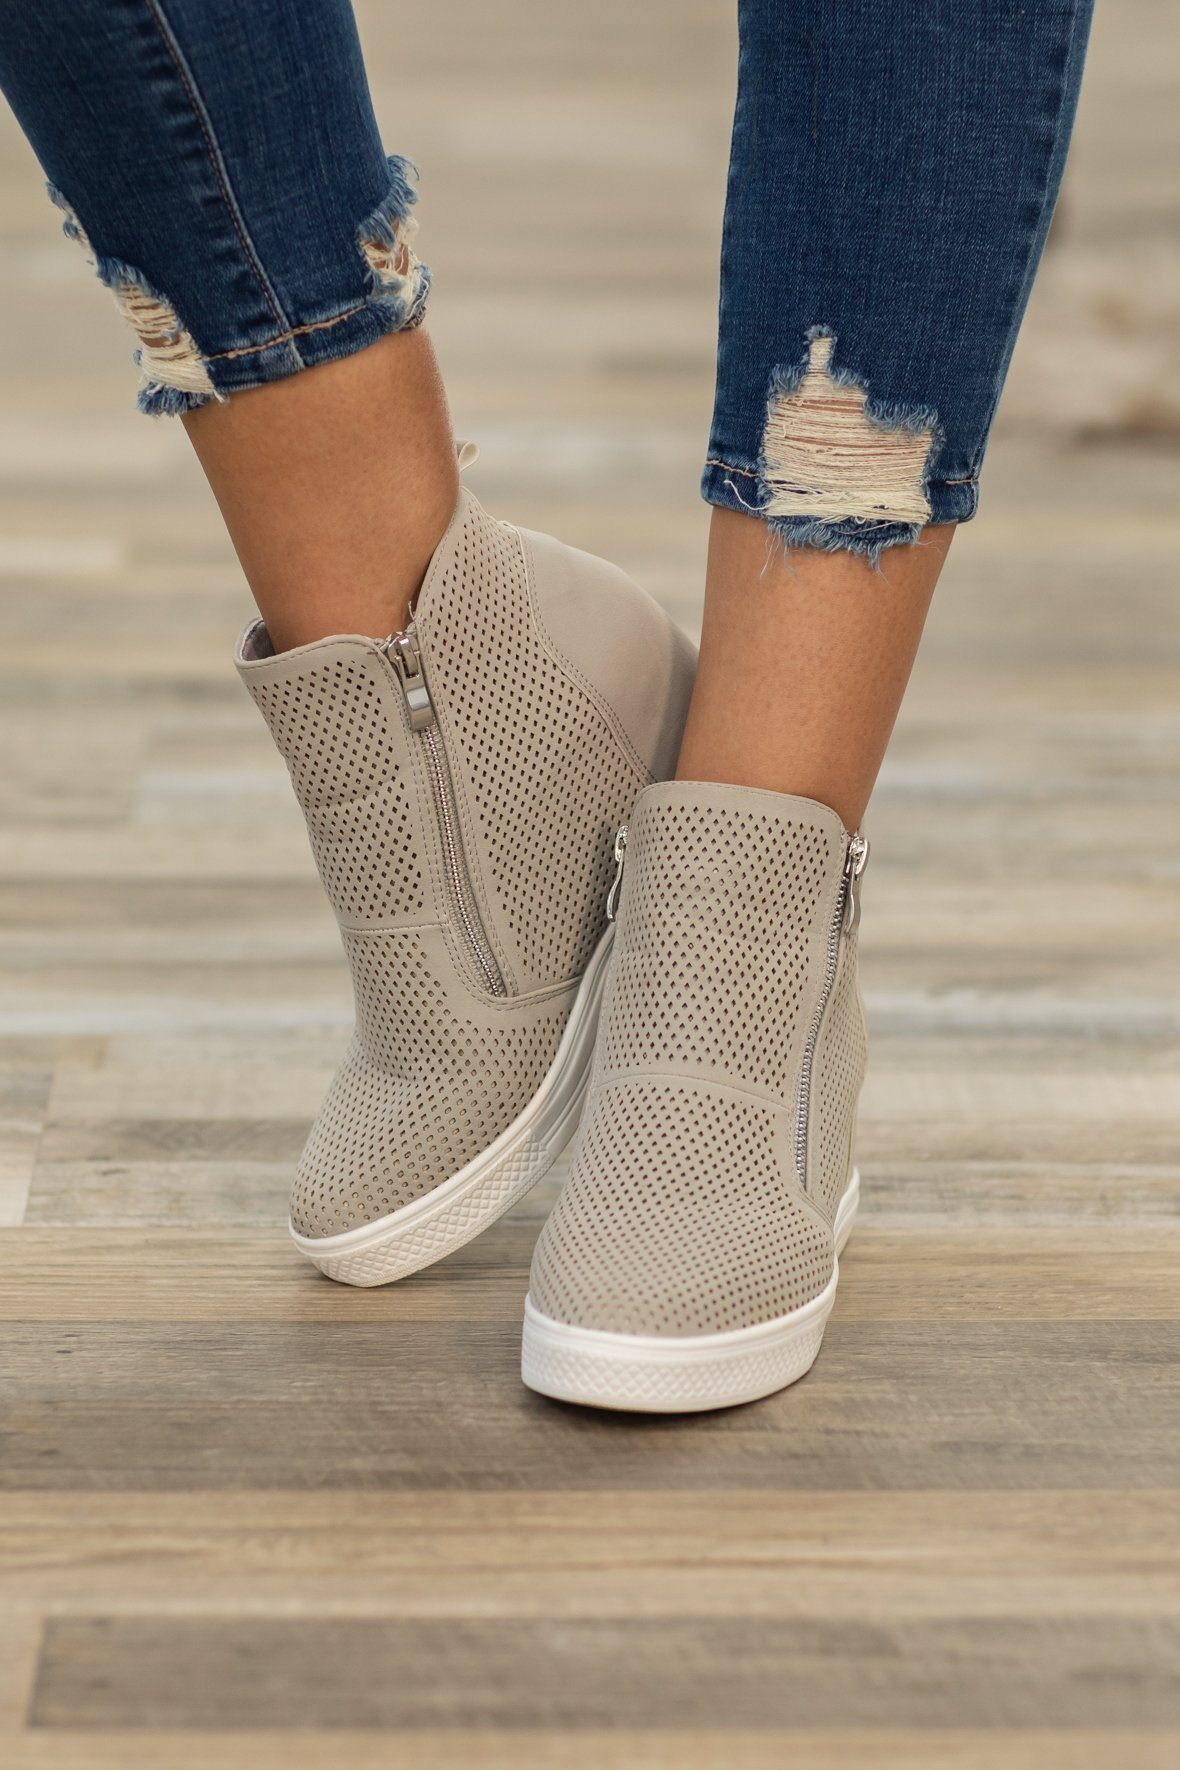shoe: (192, 471, 720, 1305), (529, 730, 907, 1517)
